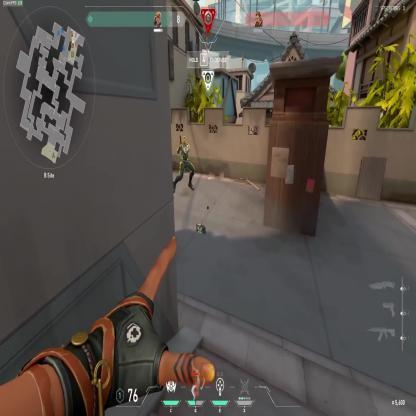enemy: (172, 136, 196, 192)
enemy_head: (182, 136, 186, 145)
